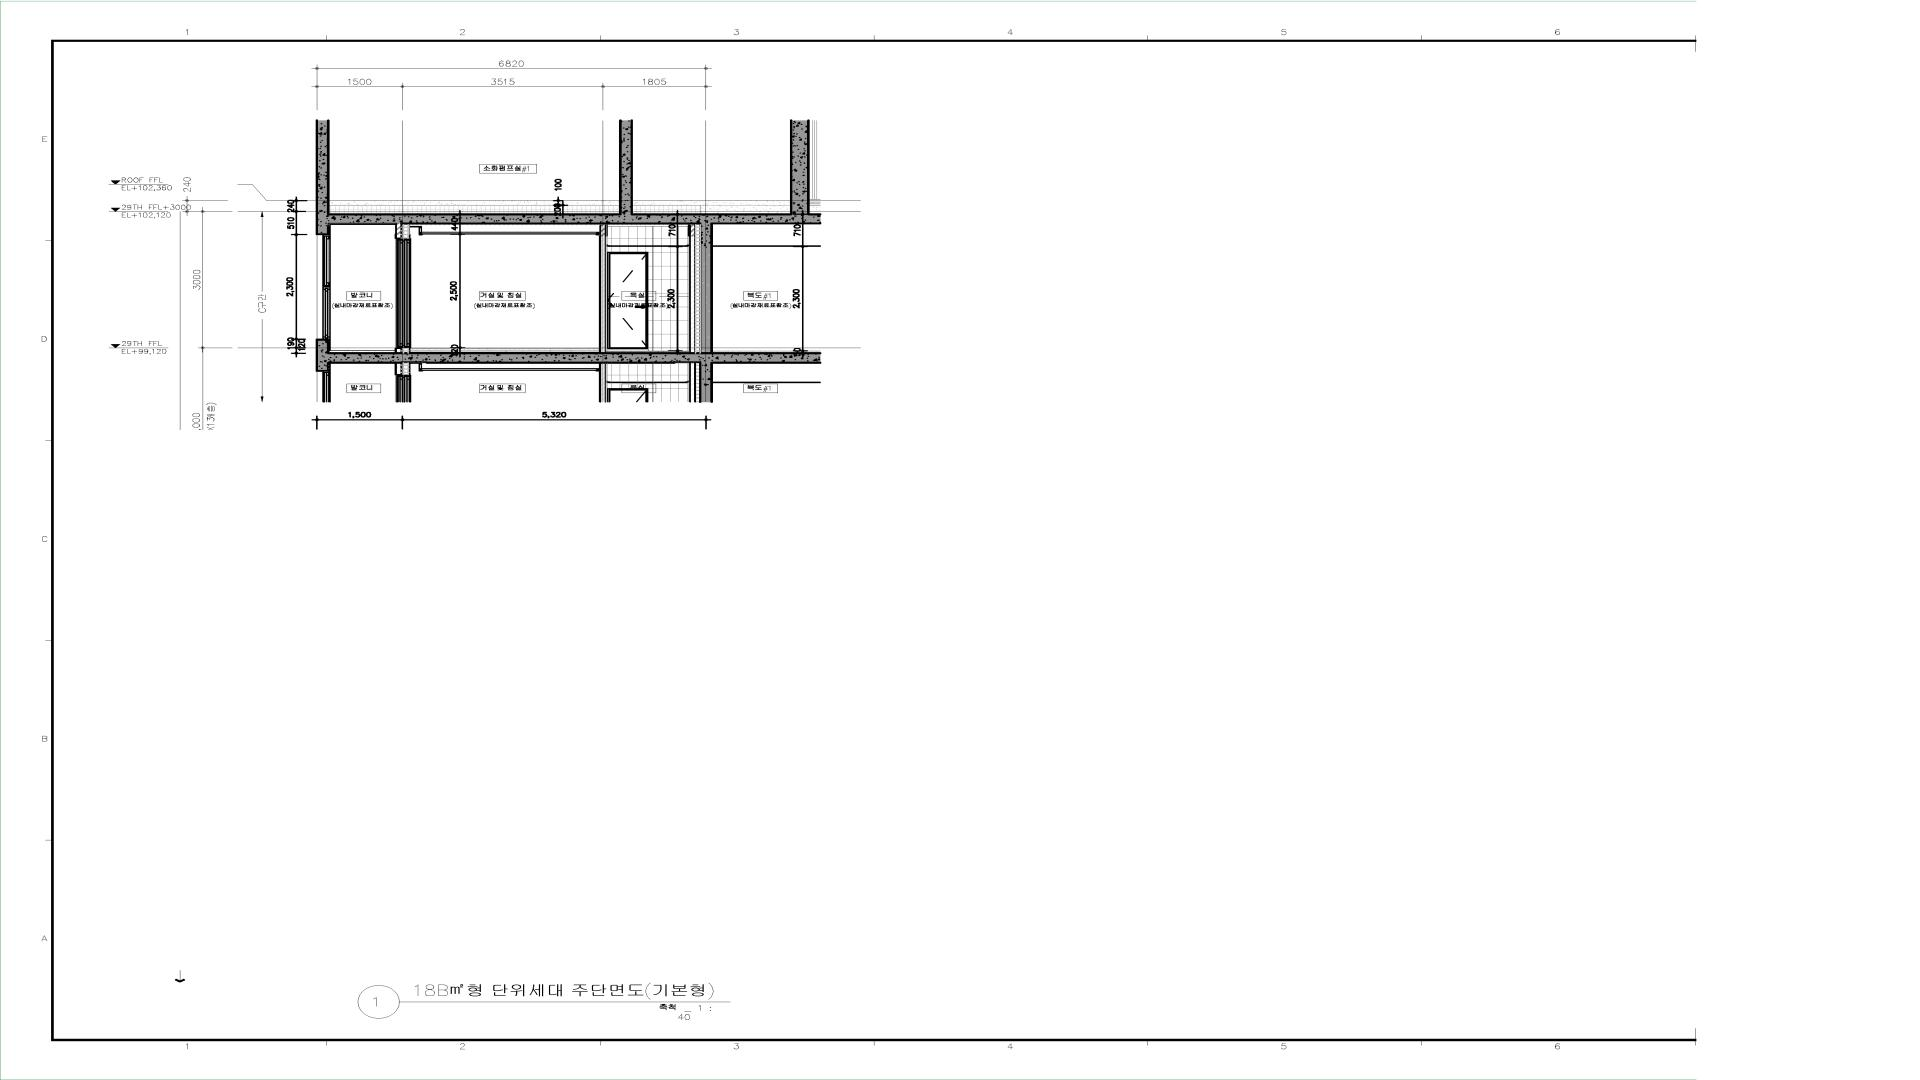door: (607, 252, 649, 349)
wall: (315, 214, 713, 364), (599, 224, 607, 352), (688, 223, 695, 352), (394, 224, 402, 239), (396, 348, 402, 352)
window: (396, 239, 411, 348), (316, 235, 331, 339)
